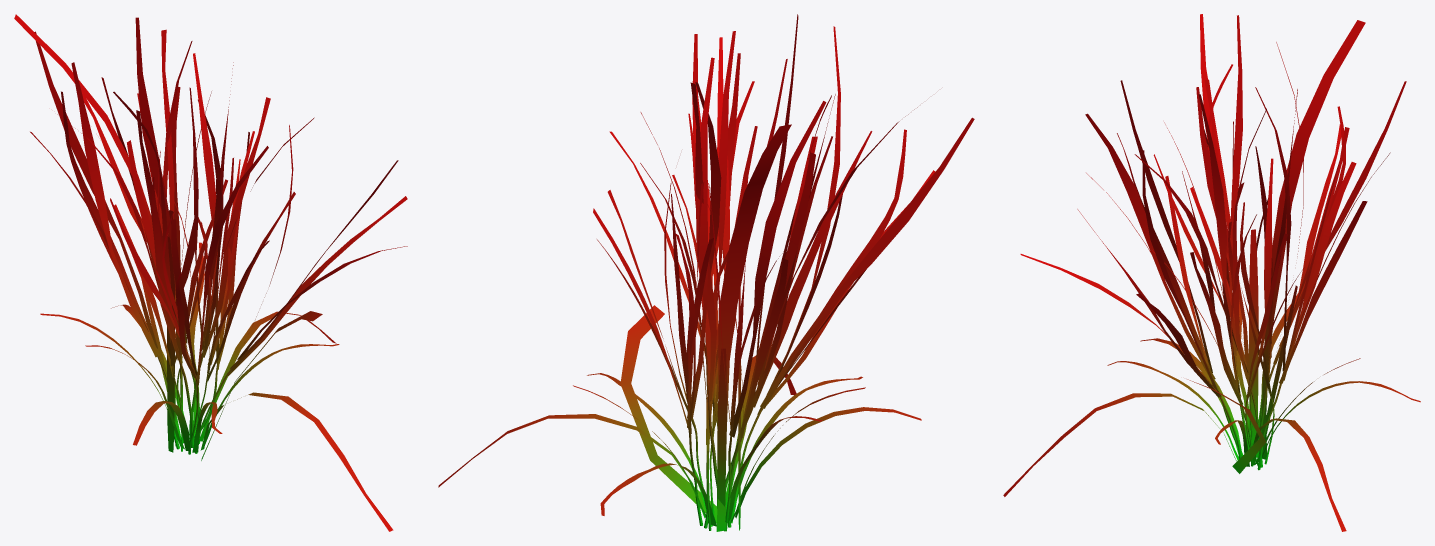
Rendered from Lemongrass_LOD1_Var3_sktne.fbx.
The picture shows the model from 3 angles, left to right: view 1: azimuth 30°, elevation 25°; view 2: azimuth 150°, elevation 25°; view 3: azimuth 270°, elevation 25°; orthographic projection. The views are drawn at different scales.
Parts seen in each view (by area): view 1: _3c06_Var3_LOD1; view 2: _3c06_Var3_LOD1; view 3: _3c06_Var3_LOD1.
Boxes of the visible parts, x1,y1,x2,y2 form: _3c06_Var3_LOD1: [14, 14, 407, 531]; _3c06_Var3_LOD1: [438, 14, 974, 531]; _3c06_Var3_LOD1: [1003, 14, 1420, 531].
Size of the model in its own units: 47.45 by 57.64 by 50.79.
